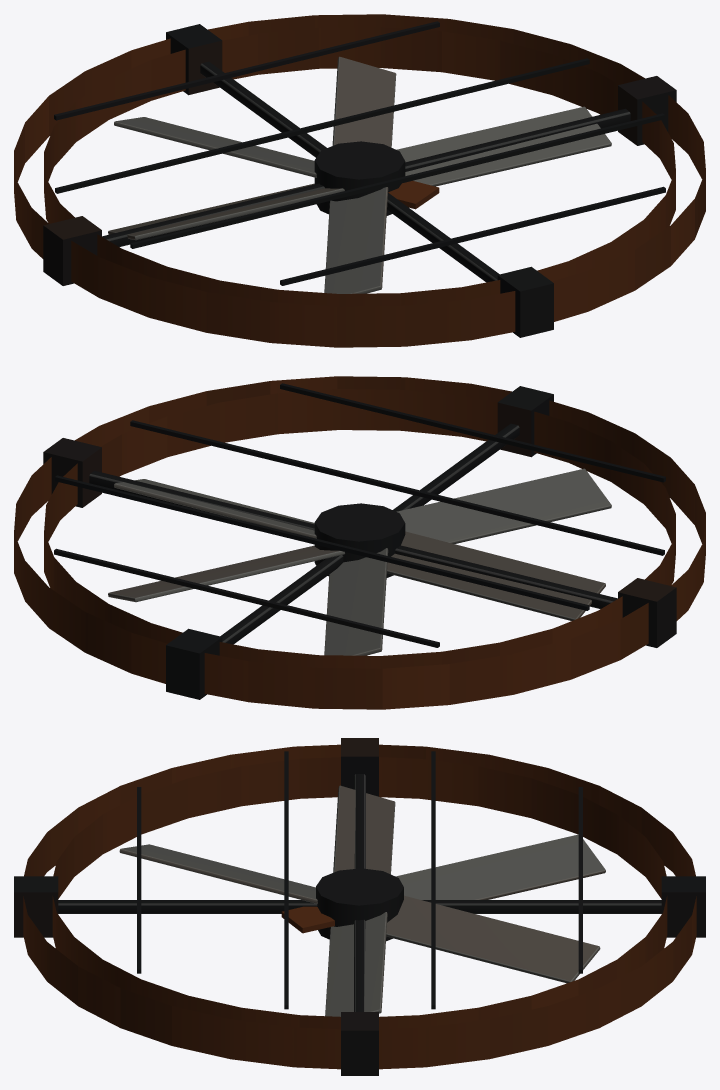
Rendered from ceiling_fan.glb.
The picture shows the model from 3 angles, top to bottom: view 1: azimuth 30°, elevation 25°; view 2: azimuth 150°, elevation 25°; view 3: azimuth 270°, elevation 25°; orthographic projection. The views are drawn at different scales.
Parts seen in each view (by area): view 1: Frame, Fan; view 2: Frame, Fan; view 3: Frame, Fan.
Boxes of the visible parts, <box> form: Frame: <box>14,14,705,347</box>; Fan: <box>108,56,611,293</box>; Frame: <box>14,376,705,709</box>; Fan: <box>108,468,611,655</box>; Frame: <box>14,738,705,1075</box>; Fan: <box>119,785,605,1016</box>.
Bounding box in the file's own units: 4.7 × 0.465 × 4.7.
